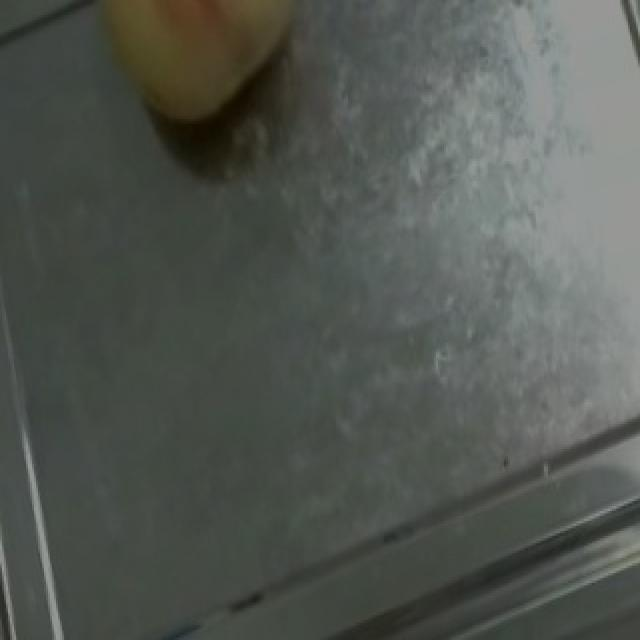Fruit: (66, 0, 336, 159)
